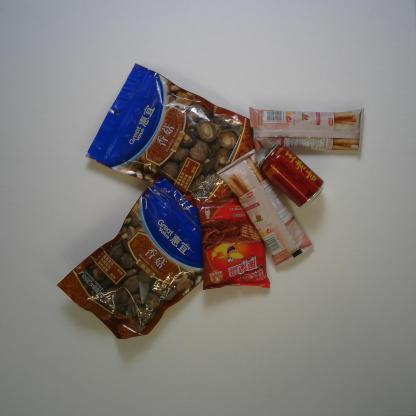Dessert: (215, 148, 315, 268), (197, 197, 271, 291), (249, 105, 366, 154)
Dried Food: (84, 62, 254, 208), (56, 177, 206, 340)
Drink: (258, 142, 324, 209)
